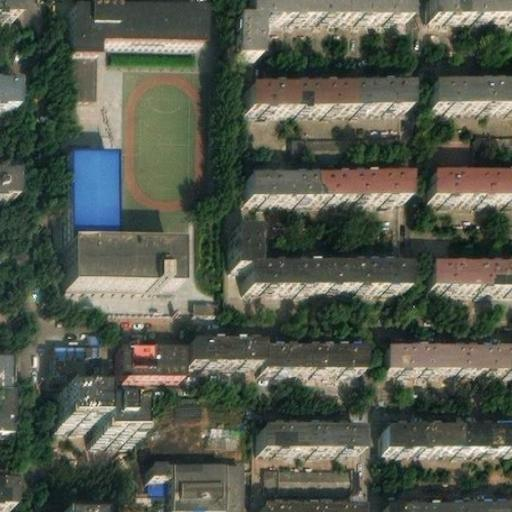building: (234, 229, 409, 288), (234, 0, 410, 55), (70, 0, 204, 50), (188, 332, 364, 364), (60, 238, 171, 286), (60, 150, 110, 238), (244, 84, 408, 109), (244, 172, 408, 197), (54, 397, 133, 444), (379, 427, 512, 453), (154, 454, 226, 502), (384, 345, 512, 370), (255, 426, 359, 448), (431, 263, 512, 288), (264, 464, 350, 487), (435, 173, 512, 198), (117, 348, 177, 378), (434, 82, 512, 105), (70, 50, 98, 94), (378, 504, 512, 512), (431, 0, 512, 13), (226, 457, 243, 512), (254, 504, 357, 512), (51, 498, 104, 512), (0, 165, 17, 199), (170, 502, 226, 512), (55, 340, 99, 350), (0, 80, 15, 105), (0, 477, 13, 505), (192, 297, 216, 310)
